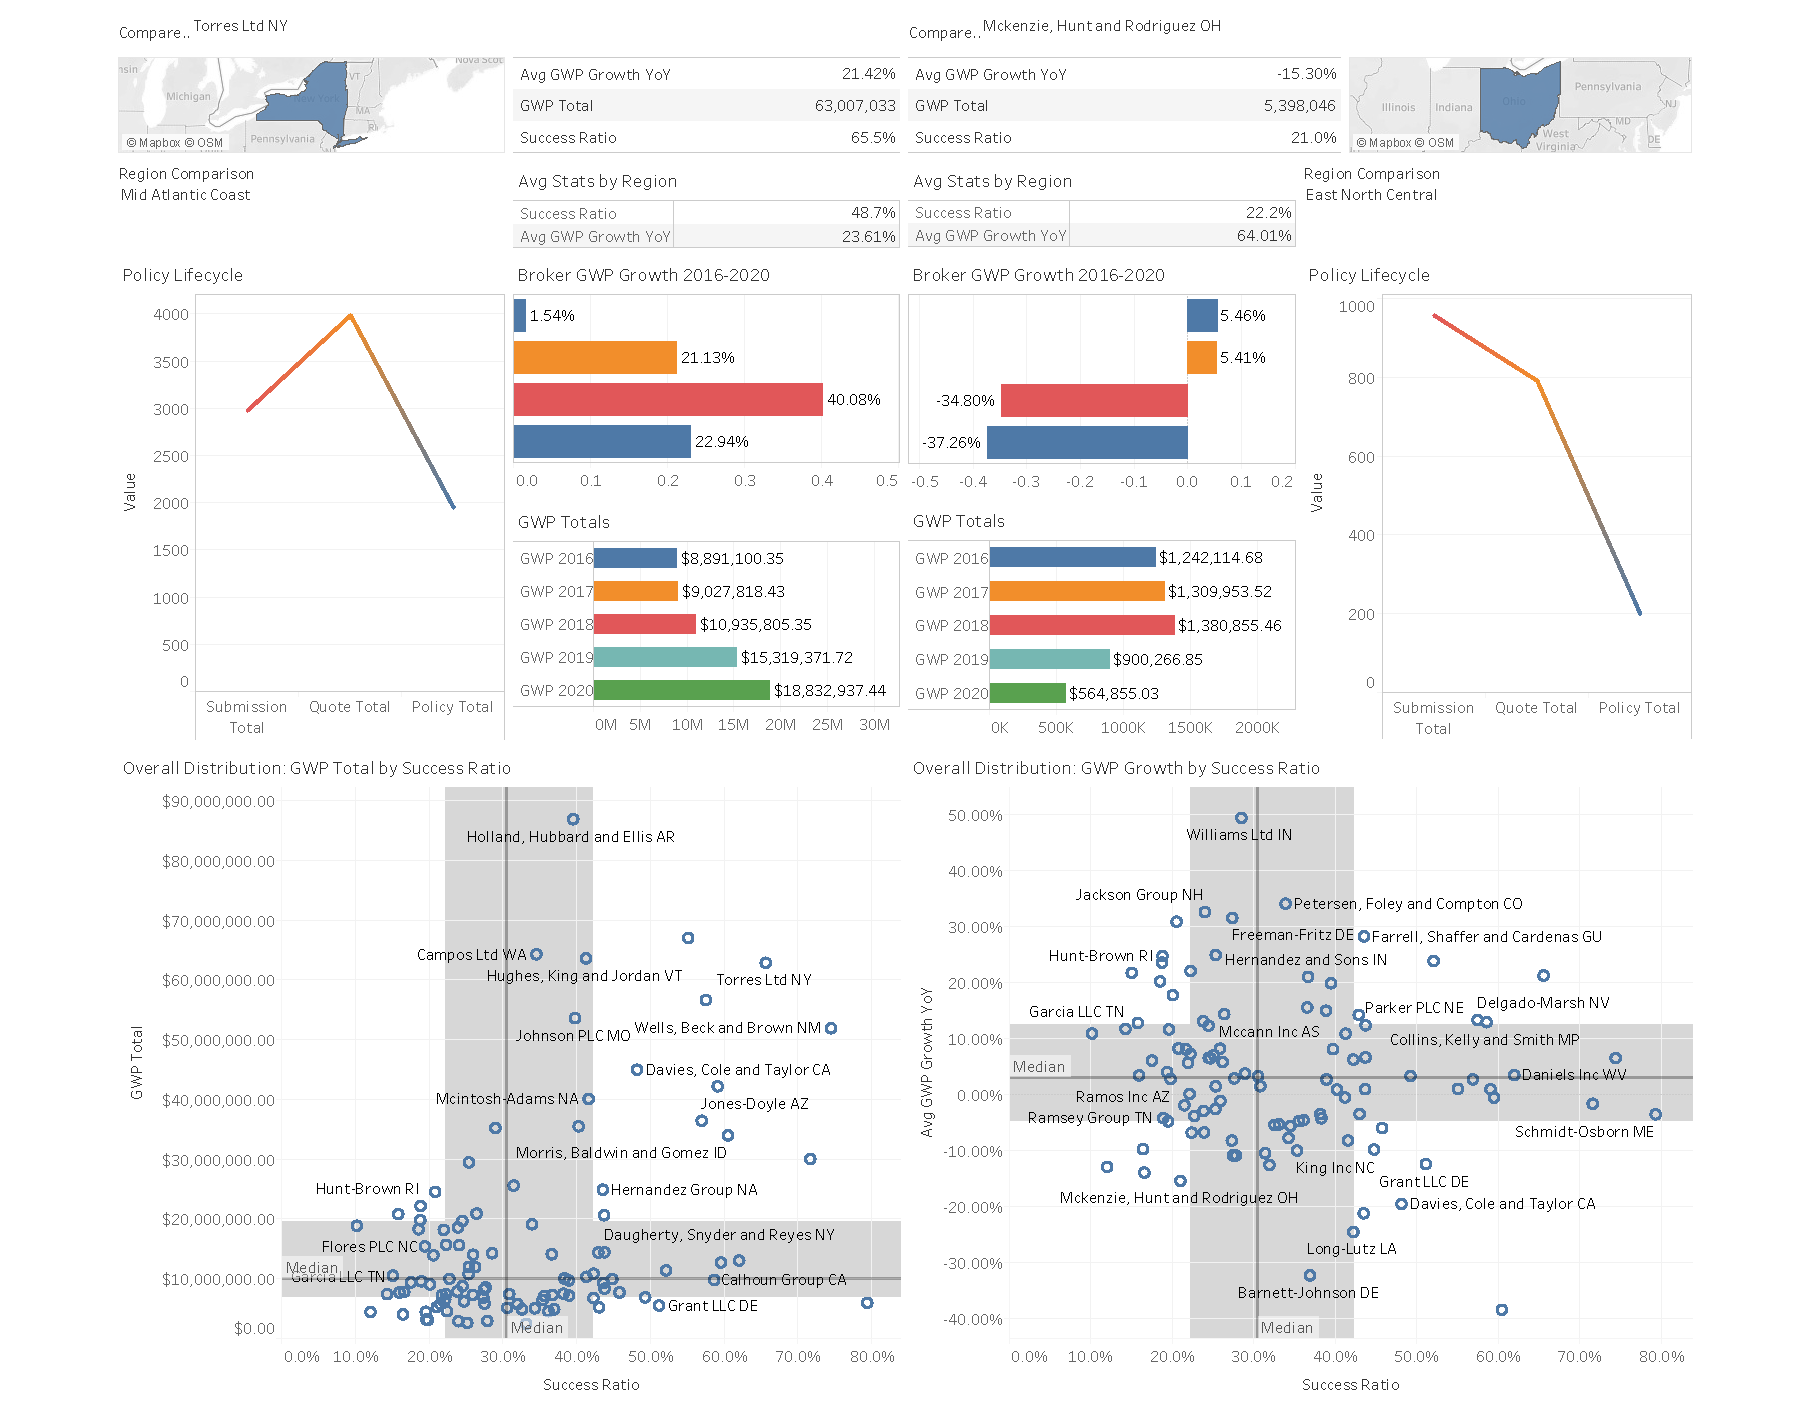

Layout of this report page (visuals, bound fields, positions):
{"tool":"tableau","page":{"name":"Dashboard 1","canvas":[1000,1000],"units":"permille","ordinal":0},"visuals":[{"type":"parameter","param":"[Parameters].[Broker Name Parameter]","box":[5.5,5.7,494.4,30.6]},{"type":"parameter","param":"[Parameters].[Compare Broker (copy)_420242175999508488]","box":[499.9,5.7,494.6,30.5]},{"type":"worksheet","title":"GWP: Avg. Growth and Total","mark":"Automatic","cols":["broker_name broker_name"],"box":[499.9,36.1,275.1,73.7]},{"type":"worksheet","title":"map (2)","mark":"Multipolygon","rows":["broker_name broker_name"],"box":[774.9,36.1,219.6,73.7]},{"type":"worksheet","title":"map","mark":"Multipolygon","rows":["broker_name broker_name"],"box":[5.5,36.2,247.2,73.5]},{"type":"worksheet","title":"GWP: Avg. Growth and Total ","mark":"Automatic","cols":["broker_name broker_name"],"box":[252.7,36.2,247.2,73.5]},{"type":"parameter","param":"[Parameters].[Region Parameter]","box":[5.5,109.7,247.2,67.1]},{"type":"worksheet","title":"Avg Stats by Region","mark":"Automatic","box":[252.7,109.7,247.2,67.1]},{"type":"worksheet","title":"Avg Stats by Region (2)","mark":"Automatic","box":[499.9,109.9,247.1,66.6]},{"type":"parameter","param":"[Parameters].[Region Comparison (copy)_838513994200203265]","box":[746.9,109.9,247.6,66.6]},{"type":"worksheet","title":"Sheet 30 (2)","mark":"Automatic","rows":["broker_name broker_name"],"box":[499.9,176.5,247.3,174.7]},{"type":"worksheet","title":"Policy Lifecycle (2)","mark":"Line","cols":["broker_name broker_name"],"box":[747.1,176.5,247.3,349.4]},{"type":"worksheet","title":"Policy Lifecycle","mark":"Line","cols":["broker_name broker_name"],"box":[5.5,176.8,247.1,349.1]},{"type":"worksheet","title":"Sheet 30","mark":"Automatic","rows":["broker_name broker_name"],"box":[252.6,176.8,247.3,174.5]},{"type":"worksheet","title":"GWP ","mark":"Automatic","rows":["broker_name broker_name"],"box":[499.9,351.2,247.3,174.7]},{"type":"worksheet","title":"GWP","mark":"Automatic","rows":["broker_name broker_name"],"box":[252.6,351.3,247.3,174.5]},{"type":"worksheet","title":"Overall Distribution: GWP Total by Success Ratio","mark":"Automatic","rows":["Calculation_242349976118923277"],"cols":["Hit Ratio (copy)_25614243741290506"],"box":[5.5,525.9,494.5,468.5]},{"type":"worksheet","title":"Overall Distribution: GWP Growth by Success Ratio","mark":"Automatic","rows":["vtavg"],"cols":["Hit Ratio (copy)_25614243741290506"],"box":[500,525.9,494.5,468.5]}]}

Visuals, with their boxes on the dashboard's canvas, which has no fixed pixel size, in thousandths of its width and height (x1, y1, x2, y2). These are canvas units, not pixel positions in the 1811x1421 screenshot, which may show the page scaled, cropped or inside an application window:
parameter: l=6, t=6, r=500, b=36
parameter: l=500, t=6, r=994, b=36
"GWP: Avg. Growth and Total" worksheet: l=500, t=36, r=775, b=110
"map (2)" worksheet (Multipolygon marks): l=775, t=36, r=994, b=110
"map" worksheet (Multipolygon marks): l=6, t=36, r=253, b=110
"GWP: Avg. Growth and Total " worksheet: l=253, t=36, r=500, b=110
parameter: l=6, t=110, r=253, b=177
"Avg Stats by Region" worksheet: l=253, t=110, r=500, b=177
"Avg Stats by Region (2)" worksheet: l=500, t=110, r=747, b=176
parameter: l=747, t=110, r=994, b=176
"Sheet 30 (2)" worksheet: l=500, t=176, r=747, b=351
"Policy Lifecycle (2)" worksheet (Line marks): l=747, t=176, r=994, b=526
"Policy Lifecycle" worksheet (Line marks): l=6, t=177, r=253, b=526
"Sheet 30" worksheet: l=253, t=177, r=500, b=351
"GWP " worksheet: l=500, t=351, r=747, b=526
"GWP" worksheet: l=253, t=351, r=500, b=526
"Overall Distribution: GWP Total by Success Ratio" worksheet: l=6, t=526, r=500, b=994
"Overall Distribution: GWP Growth by Success Ratio" worksheet: l=500, t=526, r=994, b=994
